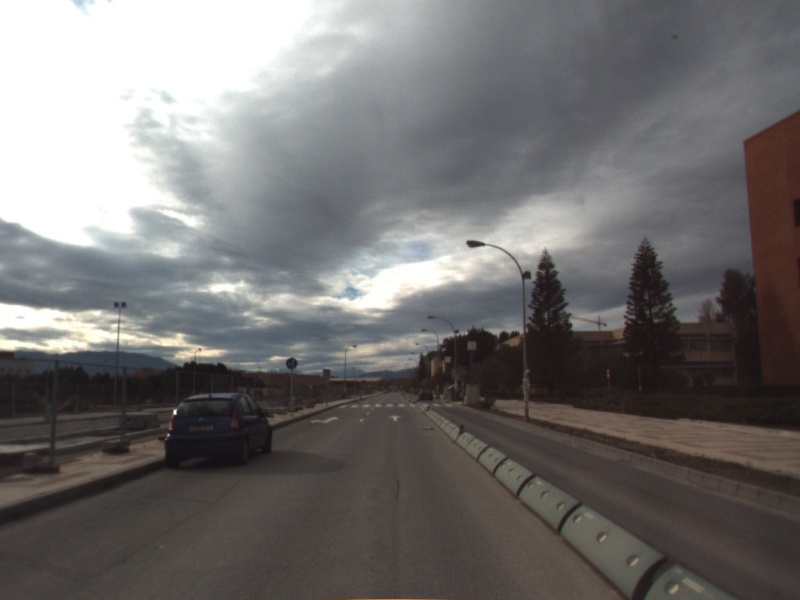STRAIGHT: (386, 413, 404, 423)
STRAIGHT_LEFT: (308, 414, 341, 426)
